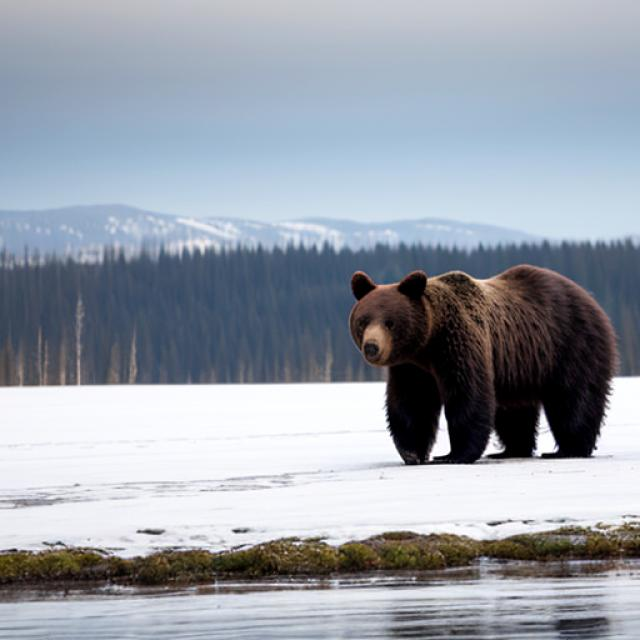bear: (339, 263, 494, 392)
